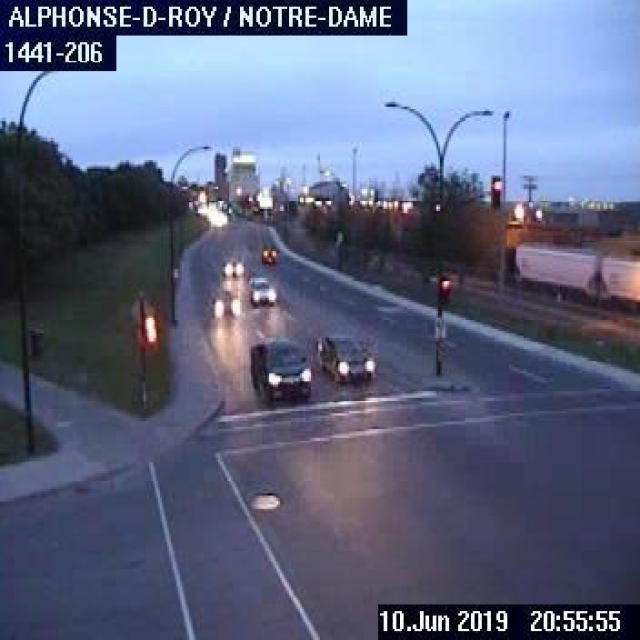vehicle: (247, 336, 311, 400), (316, 334, 376, 382), (212, 288, 238, 316), (247, 276, 275, 302), (222, 258, 242, 274), (260, 247, 276, 260)
